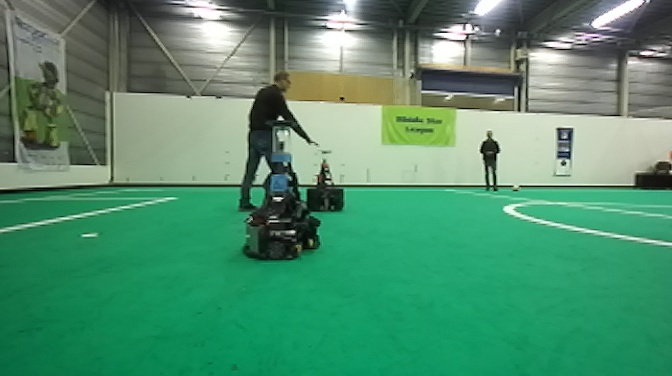ball: (509, 181, 523, 194)
human: (237, 69, 324, 213), (478, 130, 503, 193)
robot: (239, 119, 324, 262), (306, 148, 347, 212)
